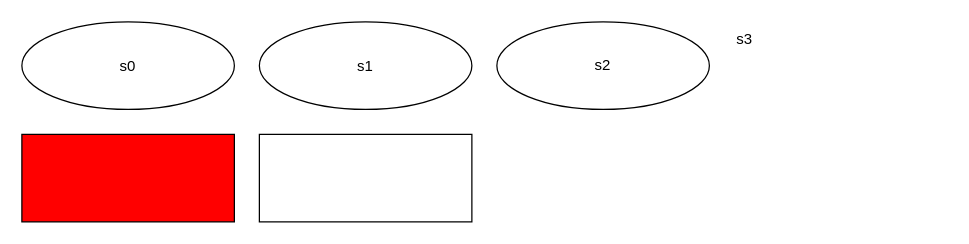
Image size: 969x244. Some labels were removed from this diagram. Here are the shapes that lost their labels. From the top down, the box of each, then its label:
(21, 133, 234, 222): s4
(258, 133, 472, 222): s5
